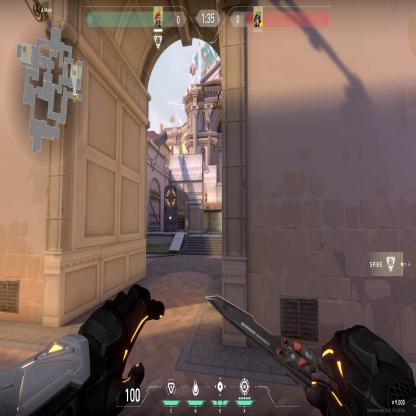enemy: (204, 190, 208, 203)
